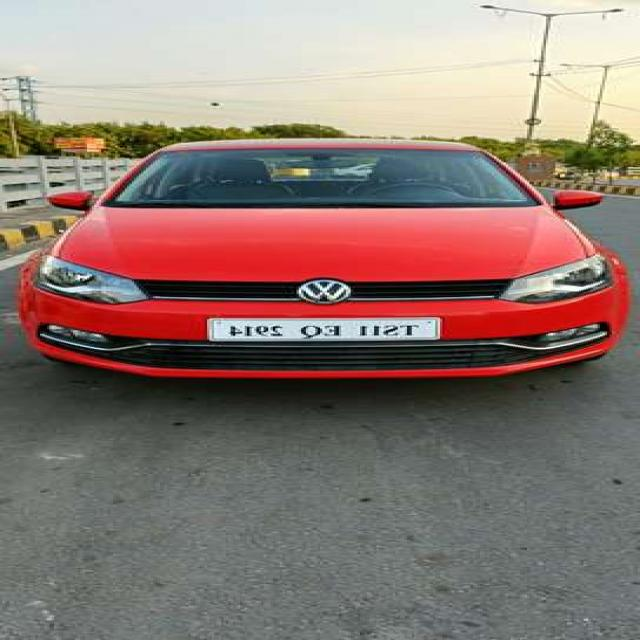license_plate: (196, 314, 452, 348)
